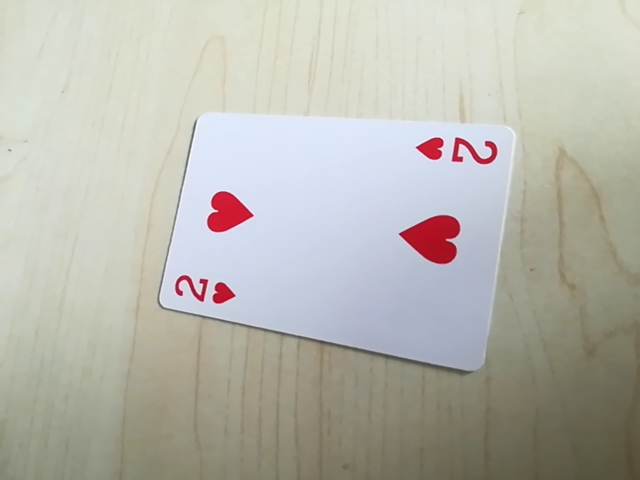hx 2: (413, 129, 504, 173), (168, 268, 245, 312)
